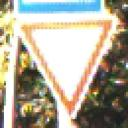preferencia: (11, 16, 122, 122)
